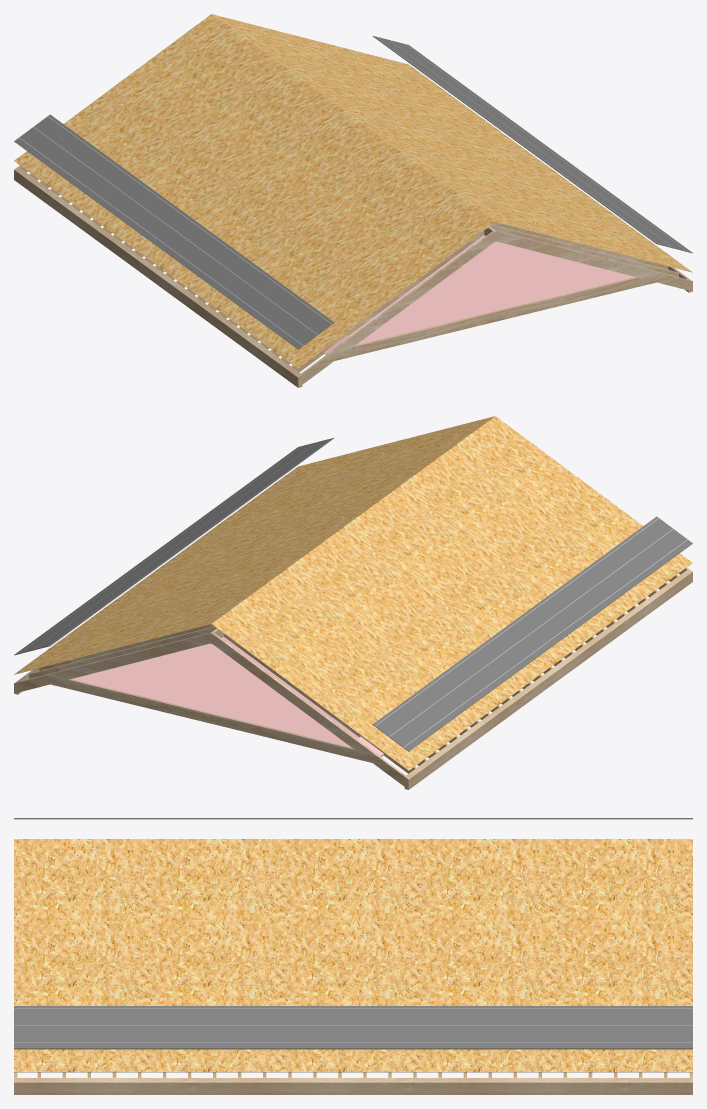
Rendered from roof-decking.glb.
The picture shows the model from 3 angles, top to bottom: view 1: azimuth 30°, elevation 25°; view 2: azimuth 150°, elevation 25°; view 3: azimuth 270°, elevation 25°; orthographic projection. The views are drawn at different scales.
Parts seen in each view (by area): view 1: Material2 (×3), Material3 (×2); view 2: Material2 (×3), Material3 (×2); view 3: Material2 (×3), Material3.
Boxes of the visible parts, x1,y1,x2,y2 form: Material2 (×3): (14, 14, 692, 387); Material3 (×2): (19, 38, 687, 354); Material2 (×3): (14, 416, 692, 789); Material3 (×2): (19, 440, 687, 756); Material2 (×3): (14, 818, 692, 1094); Material3: (14, 1008, 692, 1042).
Bounding box in the file's own units: 317 × 90.55 × 396.
Materials: 6 (3 with a texture image).
